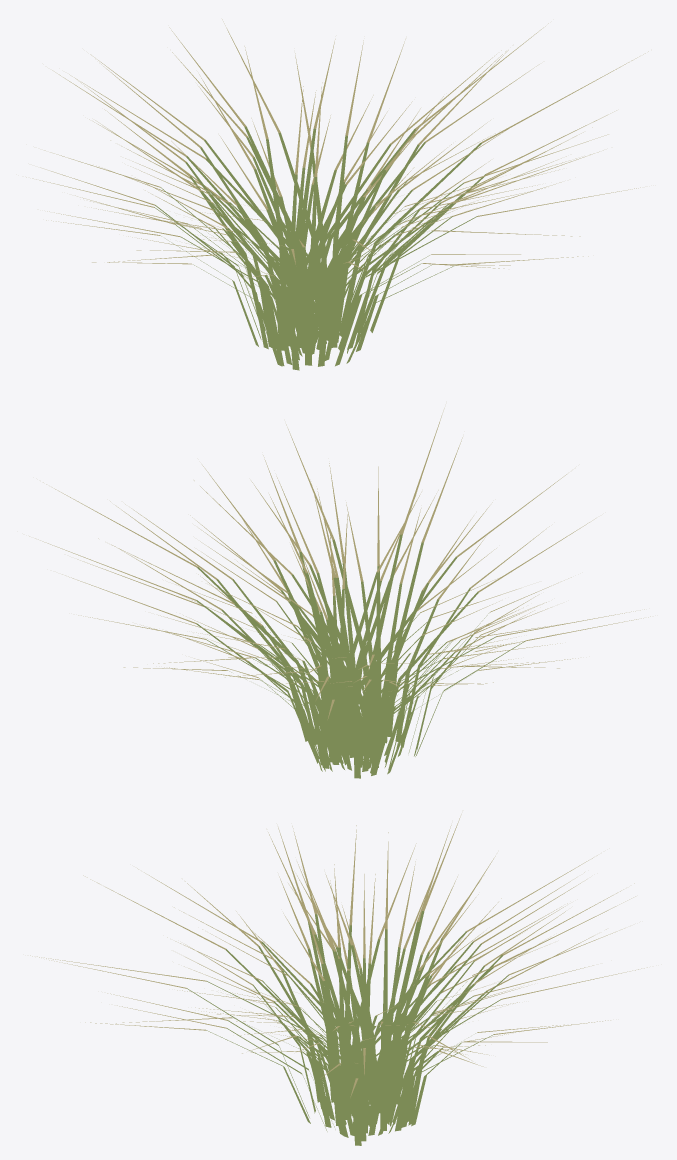
The model's file is Blender_Wiregrass_1.glb.
3 views of the same model, one above another, from view 1: azimuth 30°, elevation 25°; view 2: azimuth 150°, elevation 25°; view 3: azimuth 270°, elevation 25° (orthographic). The views are drawn at different scales.
Parts seen in each view (by area): view 1: Blender_Wiregrass_1; view 2: Blender_Wiregrass_1; view 3: Blender_Wiregrass_1.
Part boxes in pixels (x1,y1,x2,y2): Blender_Wiregrass_1: (26,19,648,370); Blender_Wiregrass_1: (29,408,650,778); Blender_Wiregrass_1: (30,814,647,1145).
Size of the model in its own units: 1.21 by 0.4096 by 1.16.
